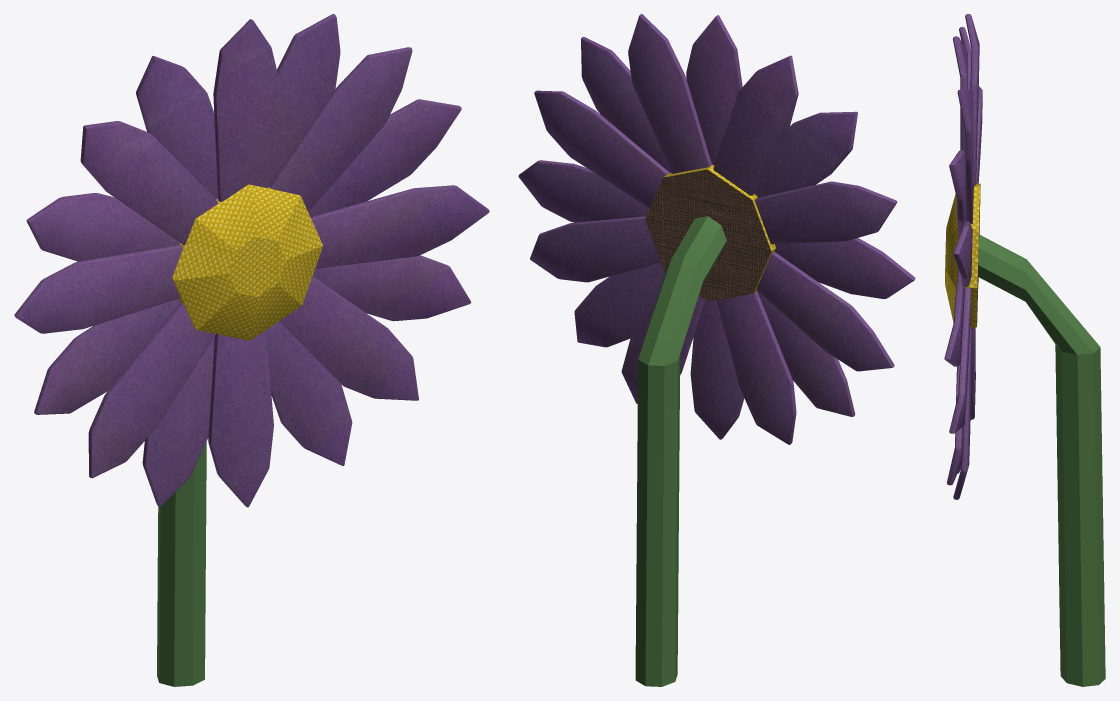
The model's file is daisy_purple.fbx.
3 renders of one model, left to right at view 1: azimuth 30°, elevation 25°; view 2: azimuth 150°, elevation 25°; view 3: azimuth 270°, elevation 25°, orthographic. The views are drawn at different scales.
Parts seen in each view (by area): view 1: Petals001, Ovule, Stem; view 2: Petals001, Ovule, Stem; view 3: Stem, Petals001, Ovule.
Part boxes in pixels (x1=…): Petals001: x1=14, y1=14, x2=489, y2=507; Ovule: x1=172, y1=184, x2=322, y2=340; Stem: x1=157, y1=442, x2=206, y2=686; Petals001: x1=518, y1=14, x2=915, y2=444; Ovule: x1=638, y1=164, x2=775, y2=365; Stem: x1=635, y1=354, x2=680, y2=686; Stem: x1=1055, y1=344, x2=1105, y2=686; Petals001: x1=944, y1=14, x2=982, y2=499; Ovule: x1=945, y1=183, x2=1099, y2=355.
Size of the model in its own units: 113 by 165 by 37.65.
Materials: 4 (4 with a texture image).
